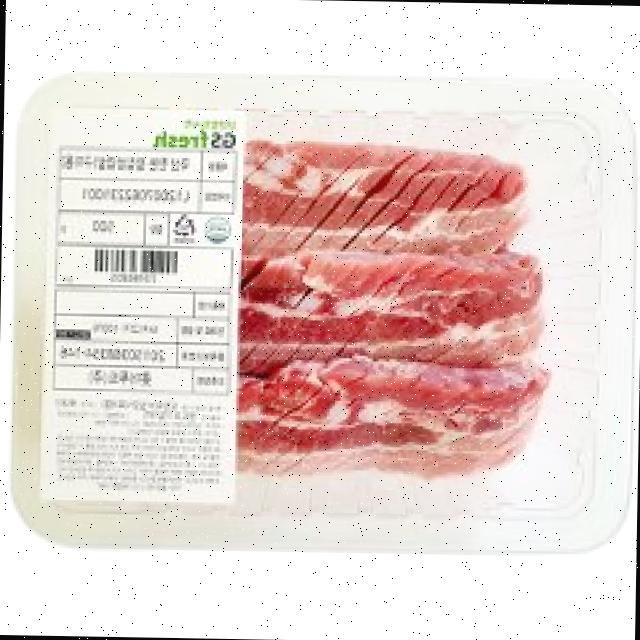meat: (19, 72, 615, 562)
